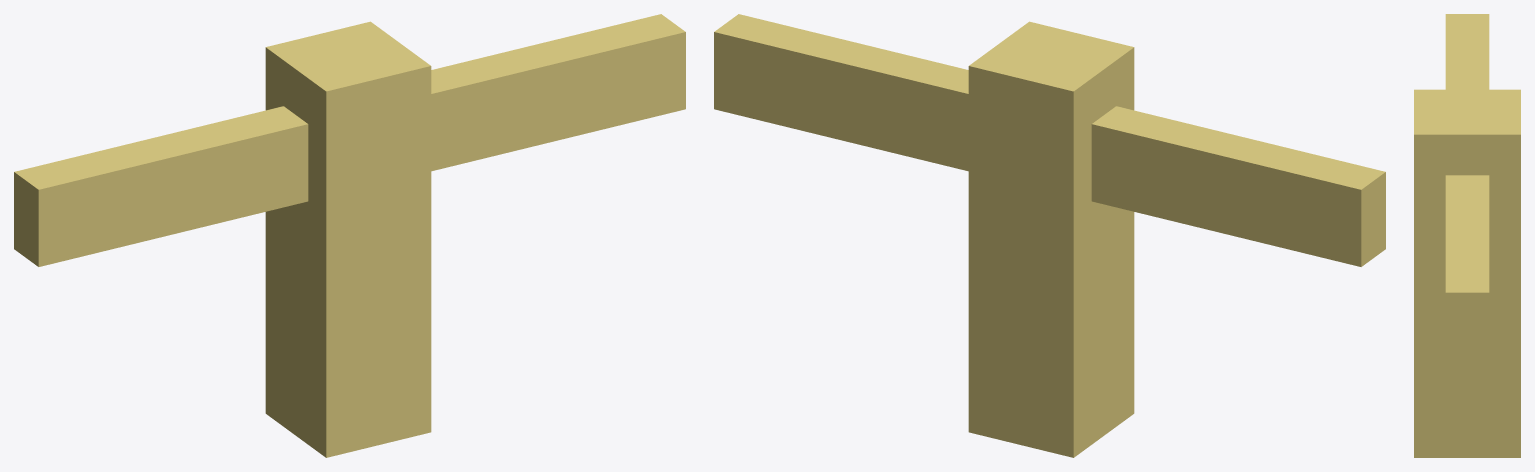
File: barriere2.fbx
The picture shows the model from 3 angles, left to right: view 1: azimuth 30°, elevation 25°; view 2: azimuth 150°, elevation 25°; view 3: azimuth 270°, elevation 25°; orthographic projection. The views are drawn at different scales.
Visible parts, largest first — view 1: Cube.007; view 2: Cube.007; view 3: Cube.007.
Boxes of the visible parts, x1,y1,x2,y2 form: Cube.007: (14, 14, 685, 457); Cube.007: (714, 14, 1385, 457); Cube.007: (1414, 14, 1520, 457).
Bounding box in the file's own units: 284 × 153 × 45.98.
